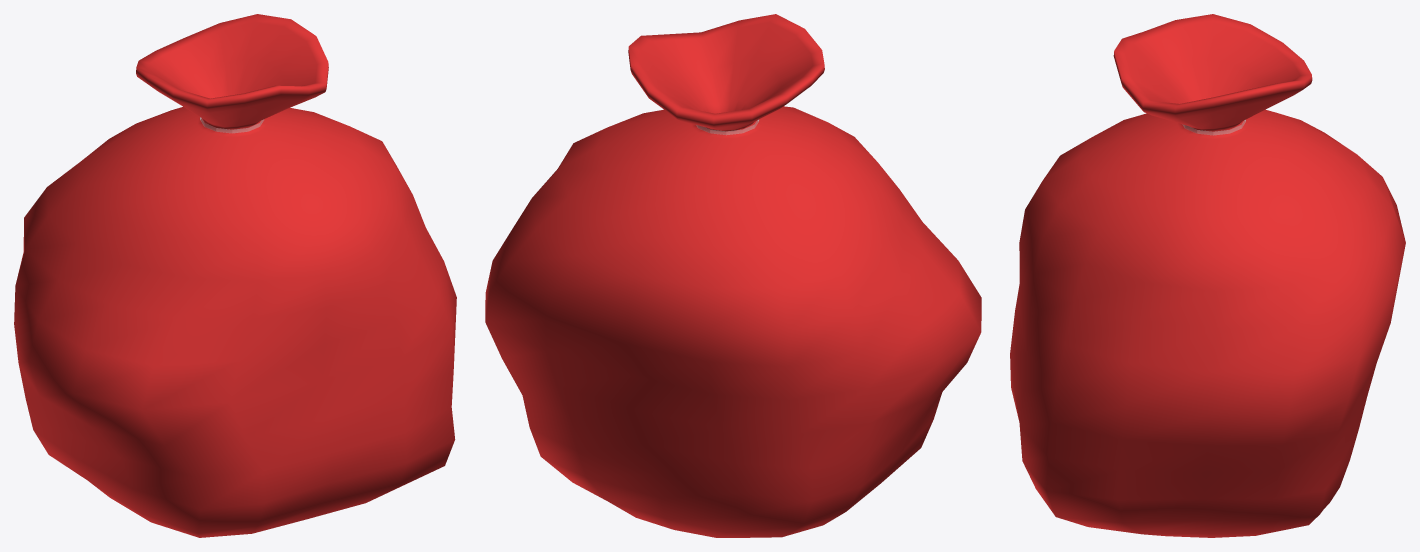
Rendered from bag.glb.
3 renders of one model, left to right at view 1: azimuth 30°, elevation 25°; view 2: azimuth 150°, elevation 25°; view 3: azimuth 270°, elevation 25°, orthographic.
Parts seen in each view (by area): view 1: Sleigh_obj.001; view 2: Sleigh_obj.001; view 3: Sleigh_obj.001.
Boxes of the visible parts, x1,y1,x2,y2 form: Sleigh_obj.001: (14,14,456,537); Sleigh_obj.001: (485,14,981,537); Sleigh_obj.001: (1010,14,1405,537).
Size of the model in its own units: 1.59 by 1.7 by 1.32.
